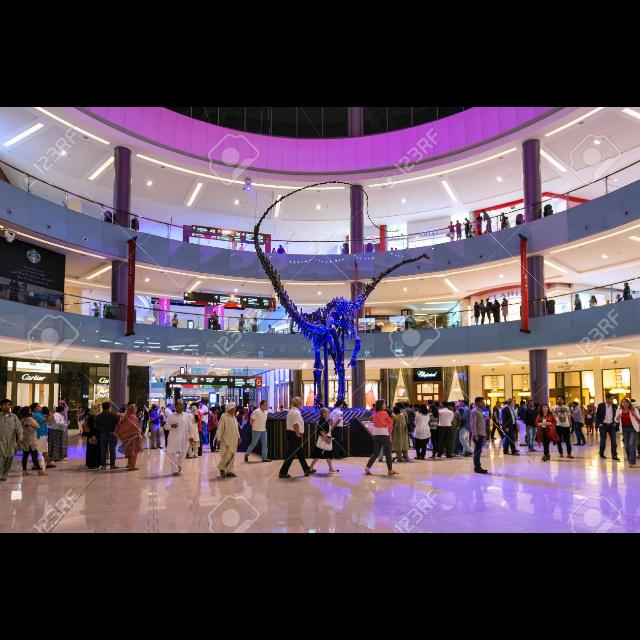head: (0, 400, 12, 412), (292, 397, 304, 409), (21, 408, 33, 418), (31, 403, 43, 413), (377, 400, 388, 410), (630, 402, 640, 413), (92, 404, 102, 414), (227, 404, 237, 414), (320, 408, 330, 418), (556, 396, 566, 406), (605, 394, 615, 404), (102, 402, 111, 412), (622, 398, 630, 409), (57, 406, 65, 416), (130, 405, 138, 415), (393, 406, 401, 416), (448, 402, 456, 412), (476, 398, 484, 408), (540, 405, 550, 413), (191, 403, 199, 412), (260, 402, 268, 411), (428, 403, 436, 412), (42, 407, 50, 415), (152, 404, 160, 412), (176, 402, 184, 410), (190, 406, 198, 414), (336, 401, 344, 409), (420, 405, 428, 413), (460, 400, 468, 408), (507, 400, 515, 408), (379, 402, 386, 410), (168, 404, 174, 412), (182, 403, 188, 411), (239, 410, 245, 418), (442, 401, 448, 409), (462, 400, 468, 408), (520, 400, 526, 408), (528, 400, 534, 408), (396, 404, 402, 411), (415, 404, 421, 411), (428, 399, 434, 406), (434, 402, 441, 408), (59, 402, 65, 408), (198, 401, 204, 407), (212, 408, 218, 414), (372, 404, 378, 410), (403, 403, 409, 409), (470, 403, 476, 409), (481, 403, 487, 409), (496, 402, 502, 408), (532, 404, 538, 410), (573, 402, 579, 408), (514, 404, 518, 412), (79, 406, 83, 412), (216, 406, 220, 412), (238, 406, 242, 412), (280, 406, 284, 412), (569, 402, 573, 408), (464, 218, 468, 222), (482, 210, 486, 214), (94, 303, 98, 307), (494, 300, 498, 304), (575, 294, 579, 298), (592, 296, 596, 300), (606, 300, 610, 304), (617, 295, 621, 299), (624, 283, 628, 287), (218, 407, 222, 411), (250, 408, 254, 412), (251, 408, 255, 412), (504, 402, 508, 406), (506, 402, 510, 406), (588, 406, 592, 410), (591, 404, 595, 408), (232, 238, 235, 242), (175, 314, 178, 318), (240, 314, 243, 318), (471, 225, 474, 228), (478, 214, 480, 218), (214, 312, 216, 316), (268, 326, 272, 328), (476, 302, 478, 306), (482, 300, 484, 304), (503, 298, 505, 302), (270, 406, 272, 410), (388, 407, 390, 411), (280, 245, 282, 248), (457, 220, 459, 223), (486, 300, 489, 302), (242, 244, 244, 246), (273, 249, 275, 251), (451, 222, 453, 224), (502, 214, 504, 216), (254, 318, 256, 320), (292, 318, 294, 320)
person: (278, 396, 318, 480), (360, 398, 400, 478), (15, 404, 50, 478), (163, 398, 195, 478), (306, 406, 340, 476), (112, 403, 146, 472), (26, 402, 58, 472), (214, 402, 243, 478), (1, 398, 26, 482), (93, 401, 121, 472), (594, 392, 622, 462), (244, 400, 274, 464), (369, 400, 398, 464), (428, 400, 456, 460), (468, 396, 489, 476), (534, 403, 562, 463), (550, 396, 576, 460), (46, 404, 72, 466), (80, 404, 104, 471), (389, 406, 416, 464), (498, 398, 522, 454), (411, 403, 433, 461), (501, 398, 521, 458), (36, 406, 56, 464), (426, 404, 446, 460), (329, 400, 347, 462), (445, 400, 463, 460), (520, 401, 540, 454), (566, 400, 588, 448), (179, 402, 197, 458), (414, 402, 434, 452), (392, 402, 410, 456), (518, 399, 538, 447), (458, 399, 474, 458), (399, 402, 418, 451), (188, 402, 204, 458), (453, 399, 469, 455), (185, 405, 201, 459), (430, 401, 446, 455), (423, 400, 439, 448), (149, 404, 165, 451), (212, 404, 228, 451), (56, 400, 70, 452), (489, 401, 506, 441), (466, 402, 480, 448), (162, 403, 175, 449), (197, 401, 210, 447), (208, 406, 220, 454), (517, 399, 529, 447), (480, 402, 492, 442), (532, 403, 544, 443), (498, 401, 510, 435), (510, 403, 520, 443), (232, 406, 244, 438), (566, 402, 576, 436), (384, 406, 394, 438), (584, 405, 594, 437), (250, 407, 260, 438), (588, 402, 598, 433), (76, 406, 86, 436), (236, 410, 246, 440), (369, 403, 379, 432), (485, 298, 495, 326), (623, 282, 633, 310), (277, 404, 287, 432), (482, 209, 492, 235), (492, 298, 502, 324), (500, 297, 510, 323), (288, 312, 298, 338), (462, 217, 472, 241), (474, 212, 484, 236), (210, 311, 220, 334), (478, 299, 486, 327), (249, 406, 257, 434), (446, 221, 456, 243), (453, 220, 463, 242), (237, 314, 247, 336), (588, 294, 598, 316), (610, 293, 622, 311), (216, 406, 224, 432), (170, 314, 180, 334), (602, 299, 614, 315), (267, 405, 275, 429), (92, 302, 100, 324), (574, 293, 582, 315), (263, 324, 275, 338), (474, 302, 481, 326), (230, 236, 238, 256), (277, 244, 287, 260), (499, 212, 507, 232), (468, 224, 476, 242), (252, 318, 258, 337), (238, 242, 246, 256), (270, 248, 278, 260)
